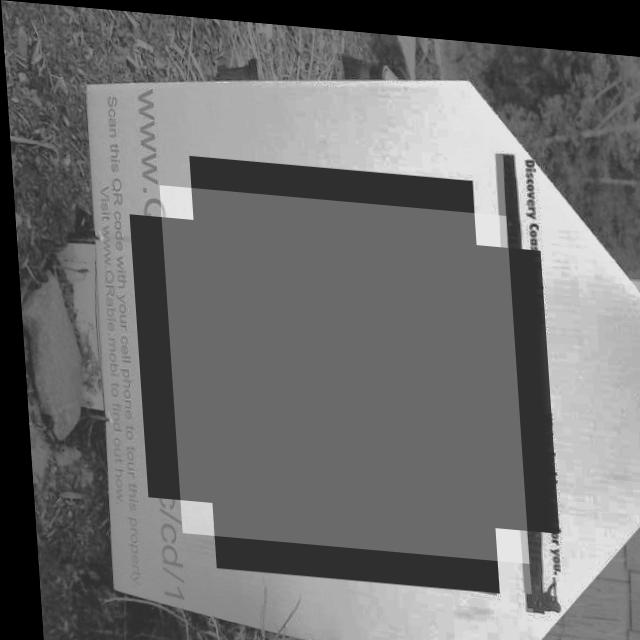qr_code: (156, 182, 521, 555)
